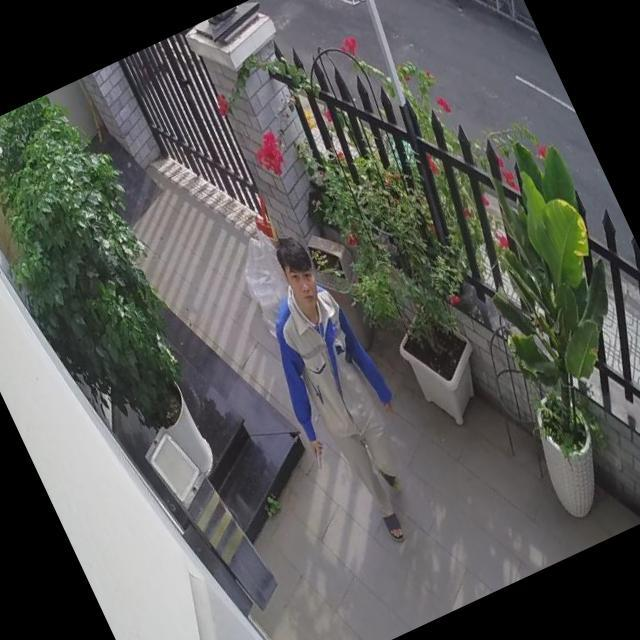person: (227, 223, 450, 558)
